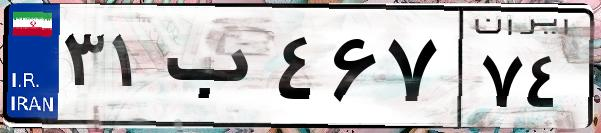1: (110, 28, 158, 98)
3: (57, 26, 110, 100)
4: (270, 28, 330, 110), (525, 38, 570, 115)
6: (330, 28, 385, 110)
7: (385, 28, 445, 110), (475, 38, 525, 113)
ب: (158, 20, 270, 120)
